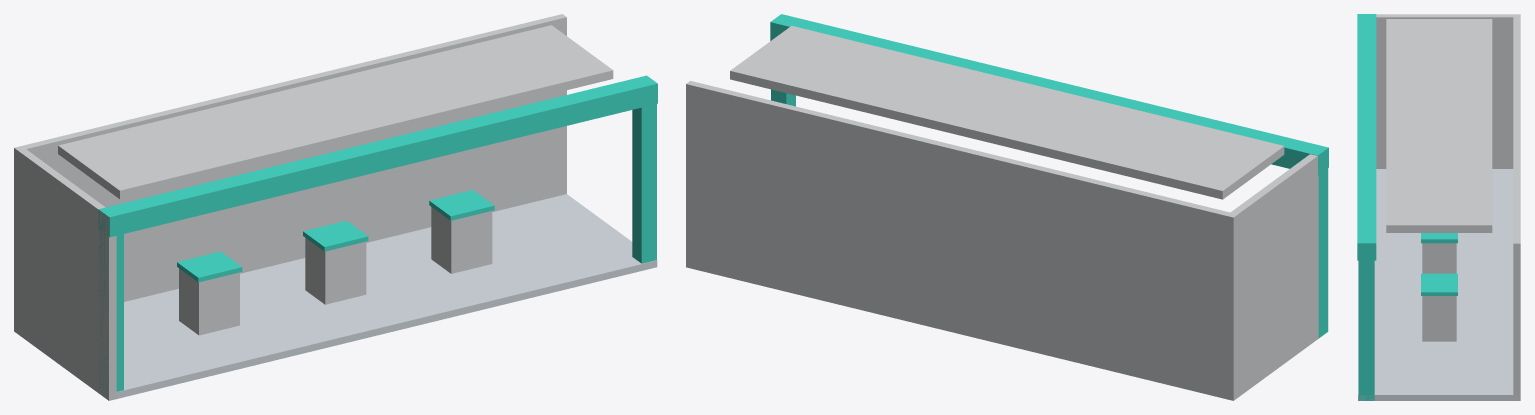
The picture shows the model from 3 angles, left to right: view 1: azimuth 30°, elevation 25°; view 2: azimuth 150°, elevation 25°; view 3: azimuth 270°, elevation 25°; orthographic projection. The views are drawn at different scales.
Visible parts, largest first — view 1: Exhibition Booth Concept; view 2: Exhibition Booth Concept; view 3: Exhibition Booth Concept.
Boxes of the visible parts, x1=… form: Exhibition Booth Concept: x1=14, y1=14, x2=657, y2=400; Exhibition Booth Concept: x1=686, y1=14, x2=1328, y2=400; Exhibition Booth Concept: x1=1357, y1=14, x2=1520, y2=400.
Size of the model in its own units: 10 by 3.34 by 3.01.
